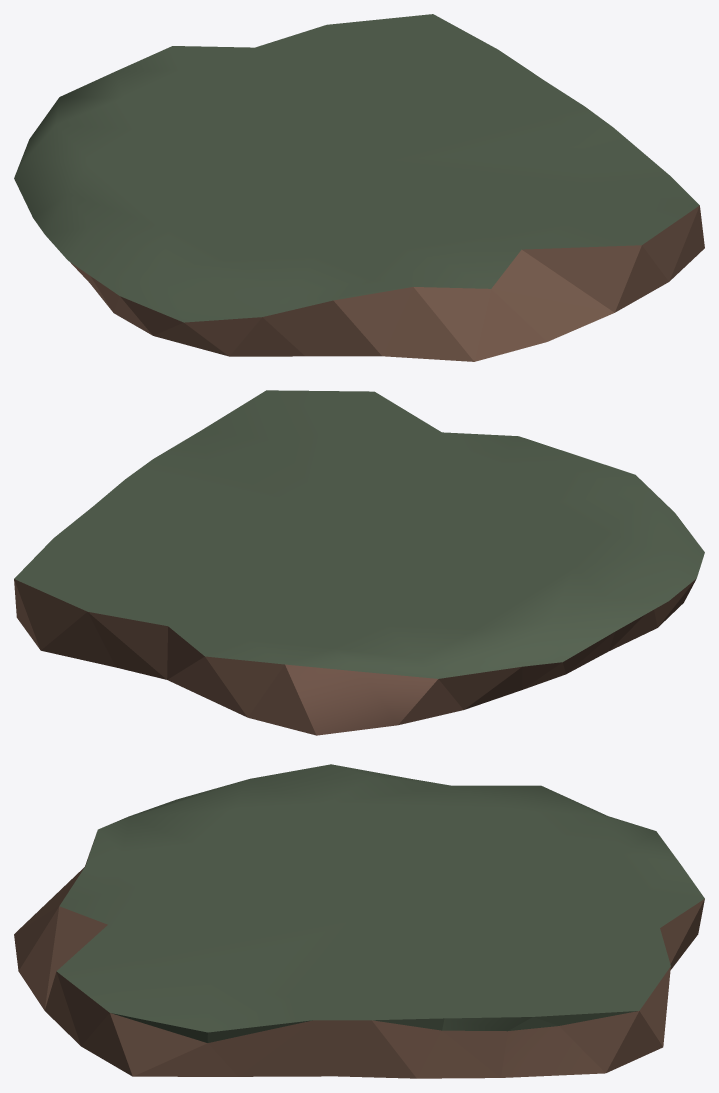
The model's file is groundEdit.glb.
3 renders of one model, top to bottom at view 1: azimuth 30°, elevation 25°; view 2: azimuth 150°, elevation 25°; view 3: azimuth 270°, elevation 25°, orthographic. The views are drawn at different scales.
Parts seen in each view (by area): view 1: Ground_Texture-base_0; view 2: Ground_Texture-base_0; view 3: Ground_Texture-base_0.
Part boxes in pixels (x1=…): Ground_Texture-base_0: x1=14, y1=14, x2=704, y2=361; Ground_Texture-base_0: x1=14, y1=390, x2=704, y2=735; Ground_Texture-base_0: x1=14, y1=764, x2=704, y2=1078.
Size of the model in its own units: 27.22 by 2.65 by 29.78.
1 material, 1 textured.
